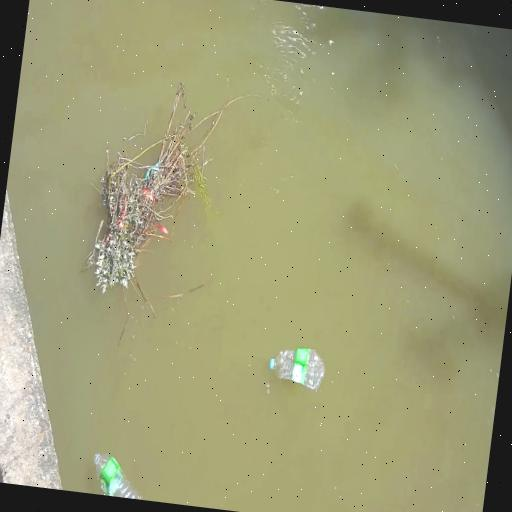plastic: (269, 348, 324, 390), (94, 454, 141, 499), (269, 359, 274, 370)
twig: (84, 75, 259, 344)
